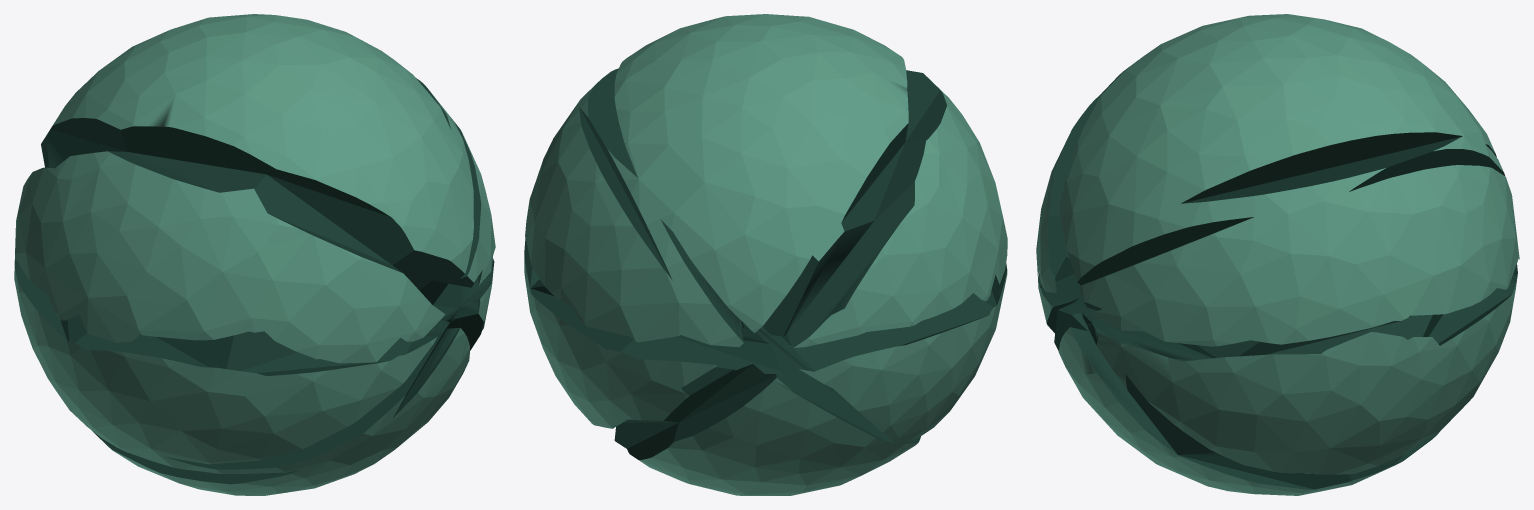
The model's file is Planet9.glb.
3 views of the same model, side by side, from view 1: azimuth 30°, elevation 25°; view 2: azimuth 150°, elevation 25°; view 3: azimuth 270°, elevation 25° (orthographic).
Visible parts, largest first — view 1: Planet_09; view 2: Planet_09; view 3: Planet_09.
Boxes of the visible parts, left/top/right/bottom form: Planet_09: left=14, top=14, right=495, bottom=495; Planet_09: left=524, top=14, right=1007, bottom=495; Planet_09: left=1036, top=14, right=1519, bottom=495.
Bounding box in the file's own units: 2.56 × 2.56 × 2.57.
